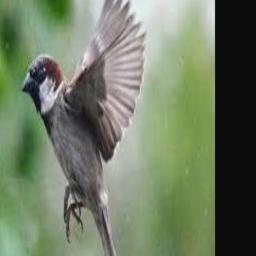Sparrow: (22, 0, 146, 256)
